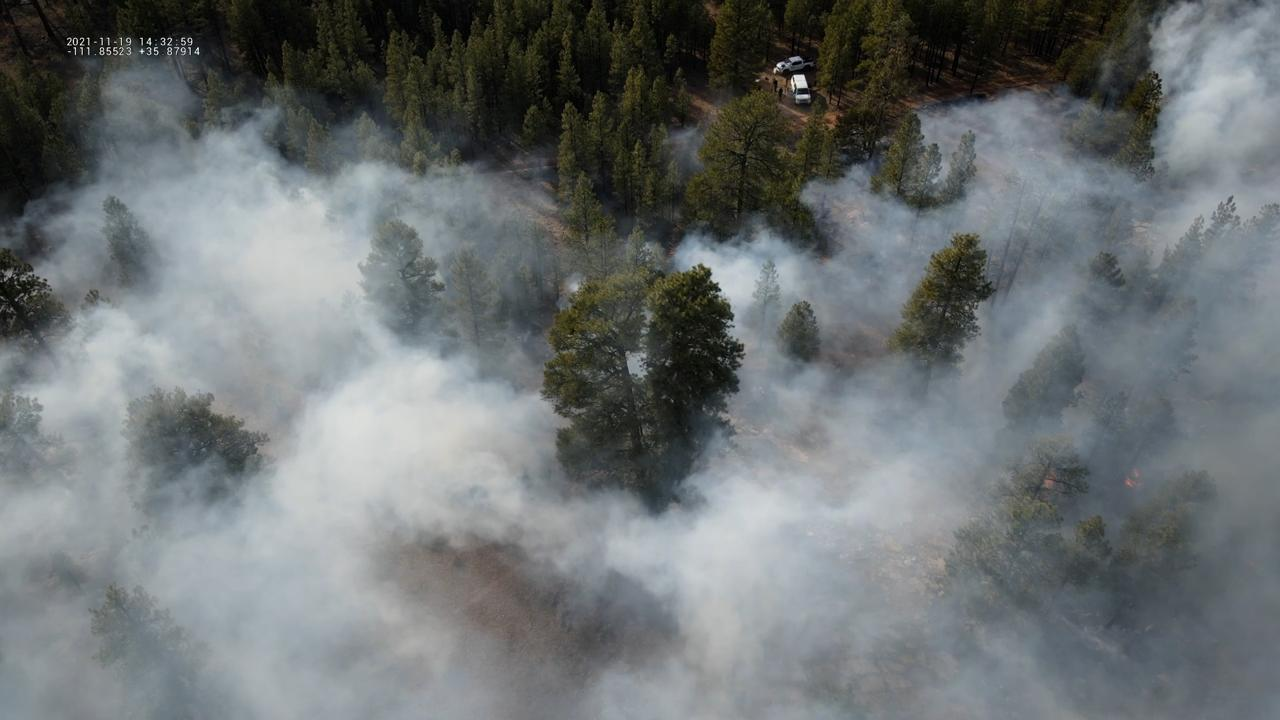fire: (1124, 467, 1142, 488), (1044, 469, 1059, 493)
smoke: (0, 0, 1280, 720)
